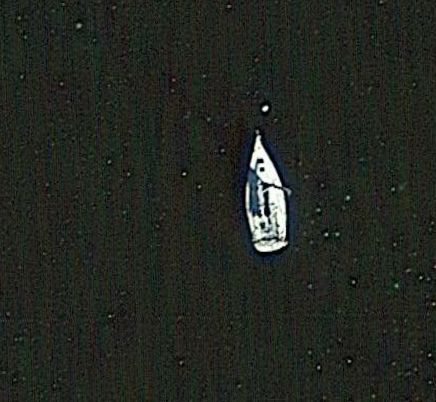boat: (234, 129, 296, 258)
